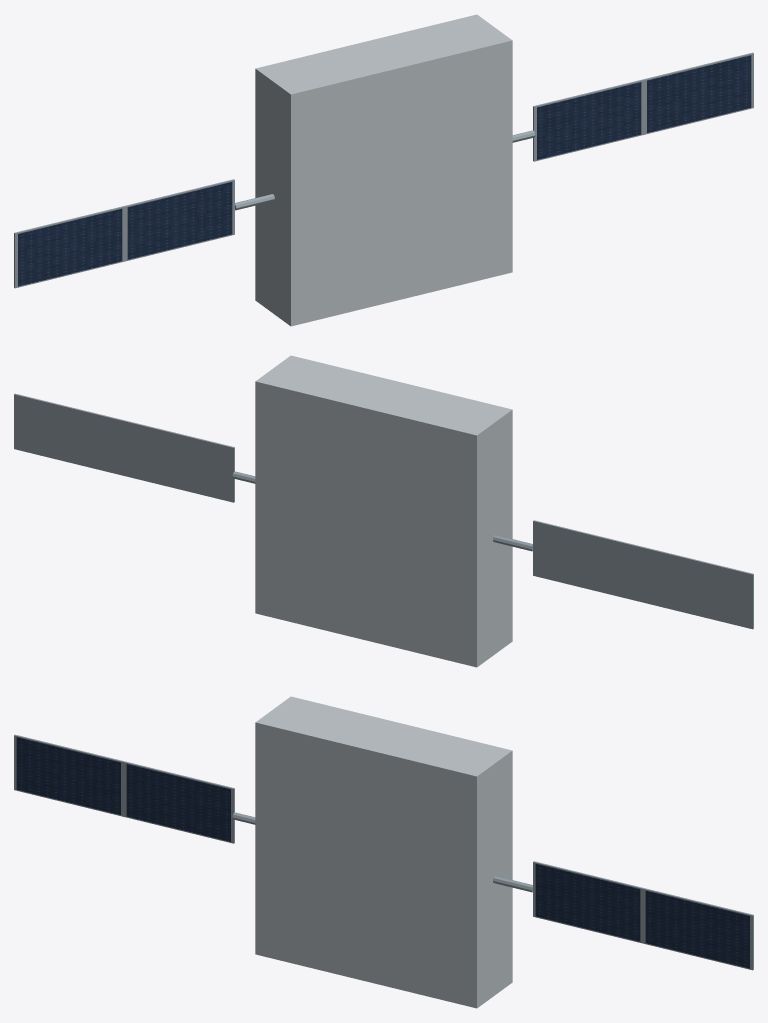
Rendered from ref-guangchuan-62111.glb.
3 renders of one model, top to bottom at view 1: azimuth 30°, elevation 25°; view 2: azimuth 150°, elevation 25°; view 3: azimuth 330°, elevation 25°, orthographic.
Visible parts, largest first — view 1: Spacecraft body, Photovoltaic laminates (×4), Array frame (×4); view 2: Spacecraft body, Array frame (×4); view 3: Spacecraft body, Photovoltaic laminates (×4), Array frame (×4).
Boxes of the visible parts, bbox=[...] form: Spacecraft body: bbox=[255, 14, 512, 326]; Photovoltaic laminates (×4): bbox=[18, 55, 751, 286]; Array frame (×4): bbox=[14, 52, 753, 288]; Spacecraft body: bbox=[255, 355, 512, 667]; Array frame (×4): bbox=[14, 393, 753, 629]; Spacecraft body: bbox=[255, 696, 512, 1008]; Photovoltaic laminates (×4): bbox=[16, 737, 749, 968]; Array frame (×4): bbox=[14, 734, 753, 970].
Bounding box in the file's own units: 6 × 1.8 × 0.5.
Materials: 3 (1 with a texture image).
